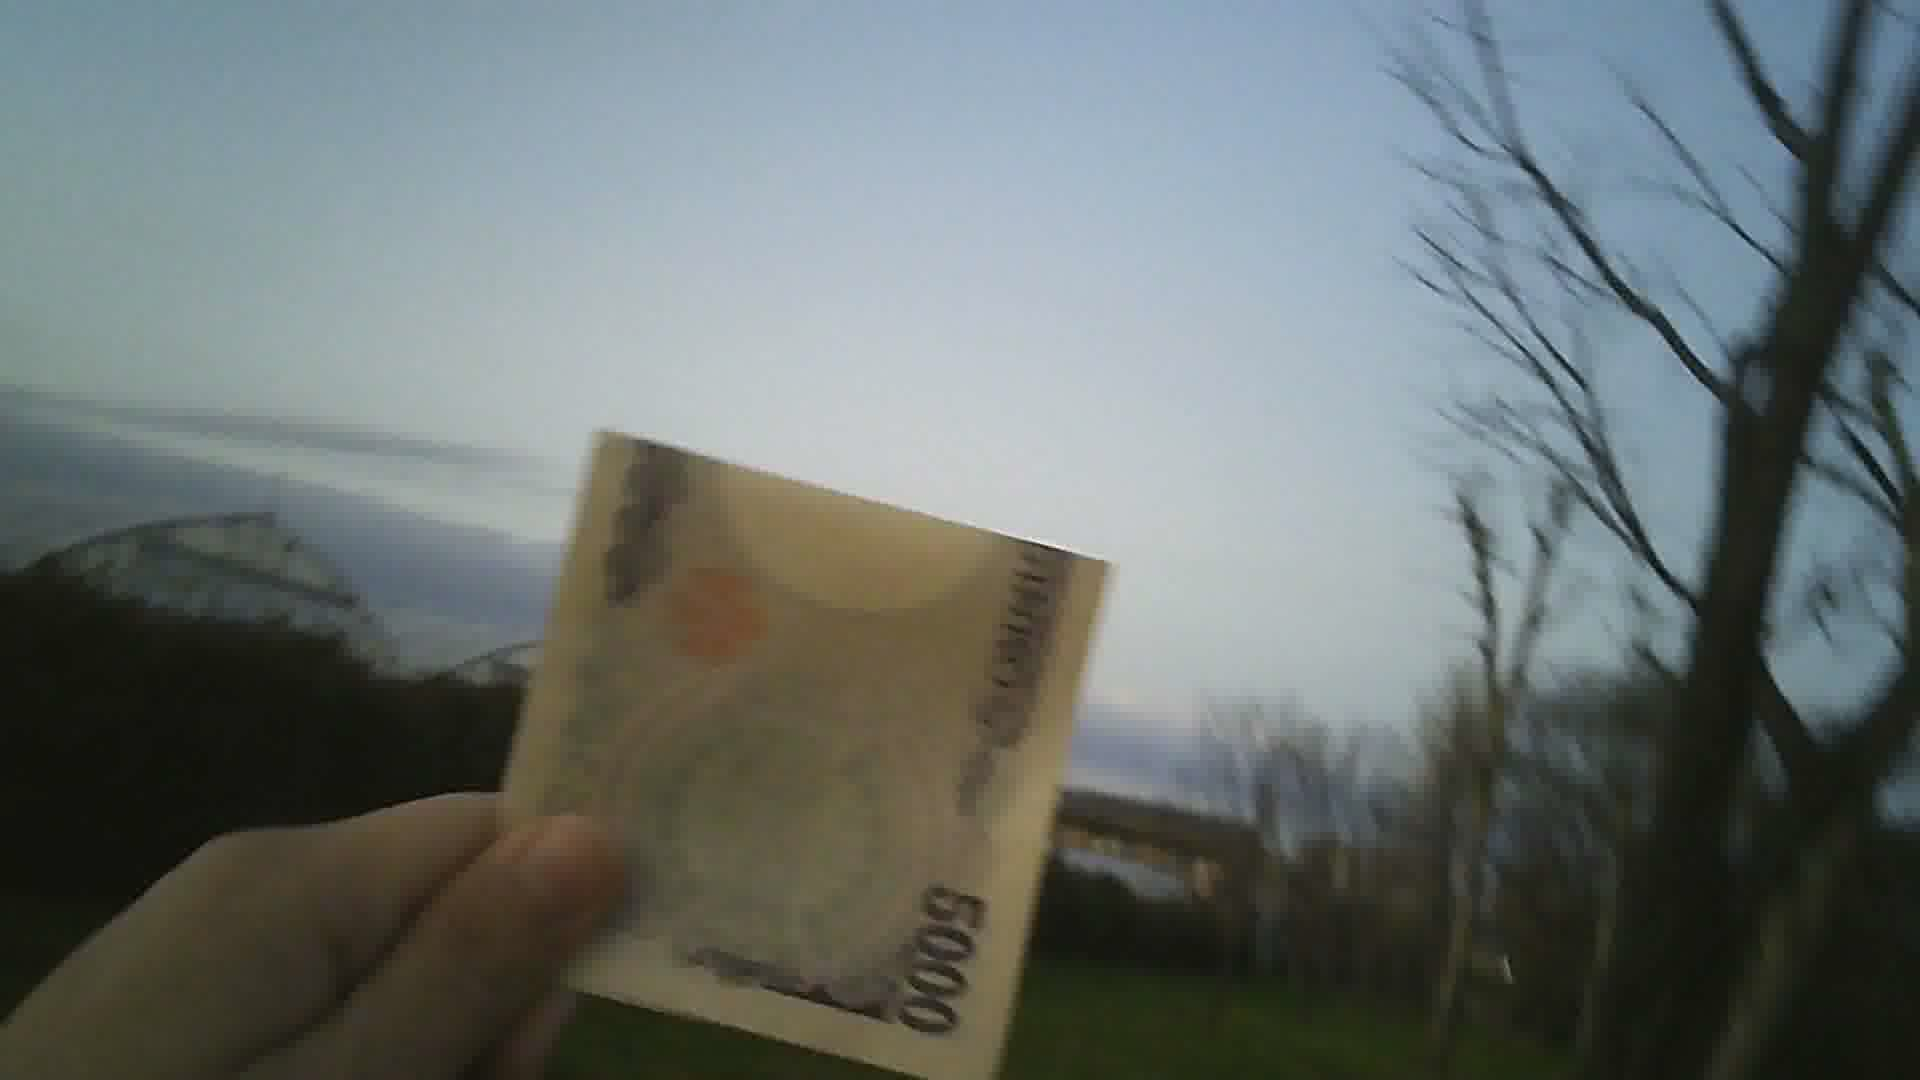5,000 Yen: (506, 414, 1118, 1077)
